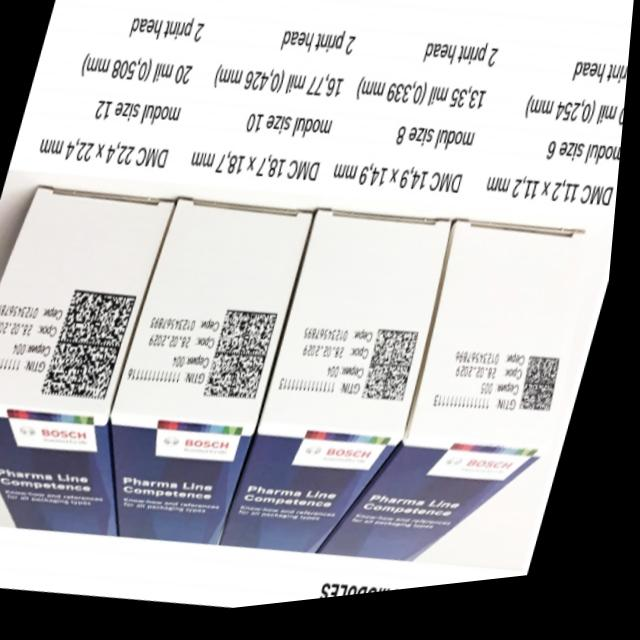datamatrix: (42, 278, 150, 418), (207, 303, 291, 418), (366, 324, 436, 423), (522, 358, 578, 438)
